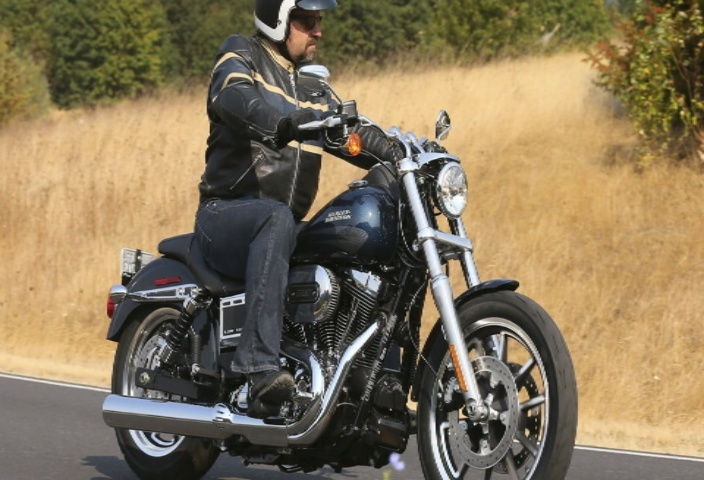motorcycle: (61, 91, 593, 480)
